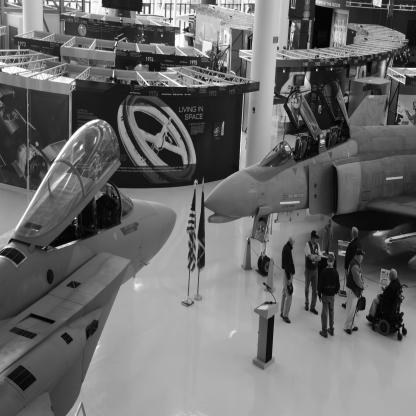F15: (1, 120, 179, 416)
F4: (204, 78, 416, 276)
